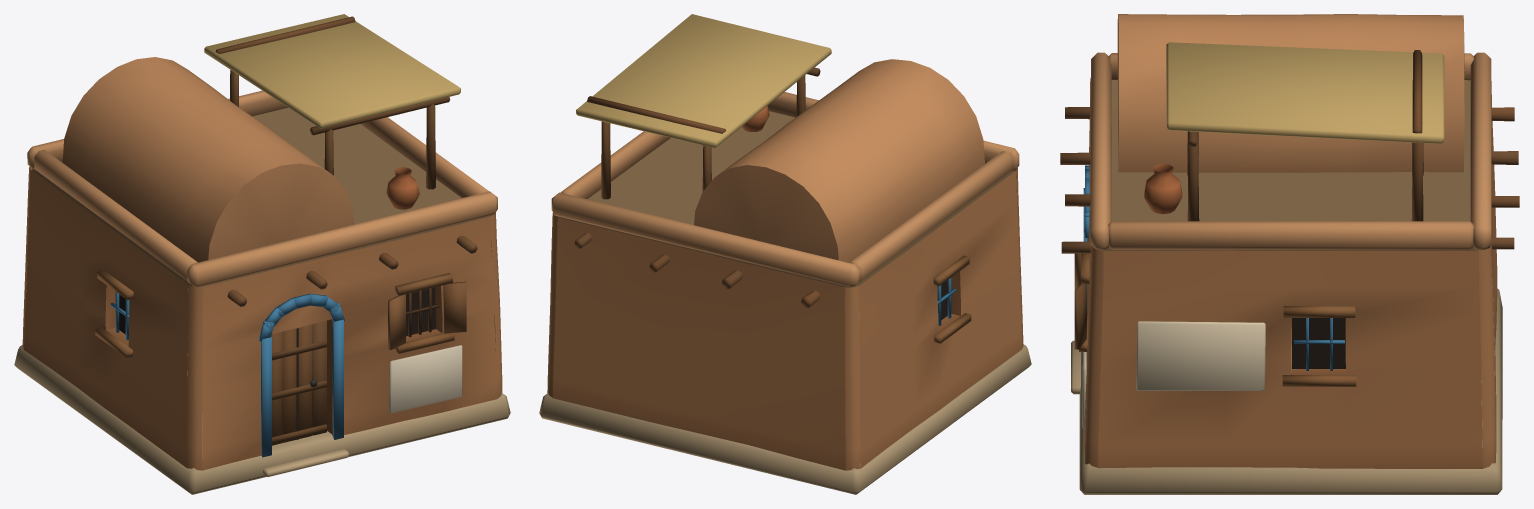
File: house_f.glb
3 renders of one model, left to right at view 1: azimuth 30°, elevation 25°; view 2: azimuth 150°, elevation 25°; view 3: azimuth 270°, elevation 25°, orthographic. The views are drawn at different scales.
Parts seen in each view (by area): view 1: house_f; view 2: house_f; view 3: house_f.
Part boxes in pixels (x1=…): house_f: x1=14, y1=14, x2=510, y2=494; house_f: x1=539, y1=14, x2=1031, y2=494; house_f: x1=1060, y1=14, x2=1519, y2=494.
Size of what is drawn, in the model's own units: 4.68 by 4.27 by 4.85.
